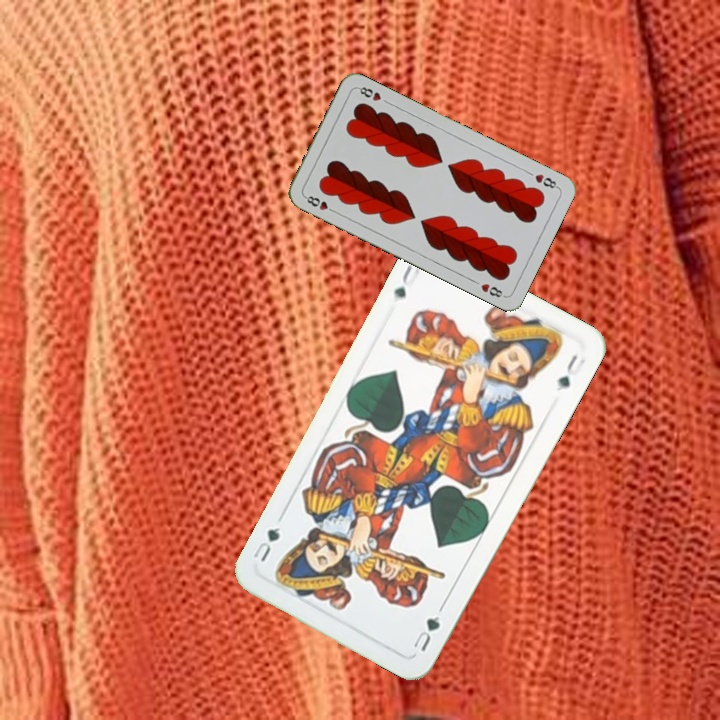GU: (389, 260, 423, 305), (409, 612, 443, 654)
H8: (301, 191, 339, 215), (531, 170, 561, 191)
